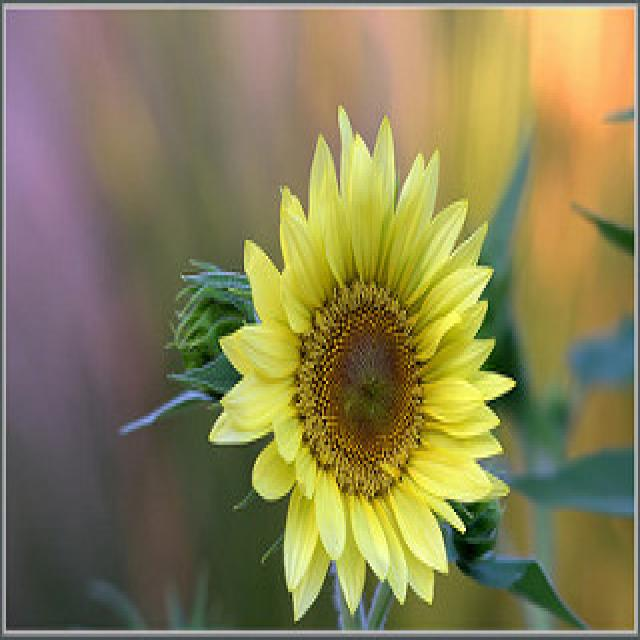sunflower: (202, 96, 522, 630)
